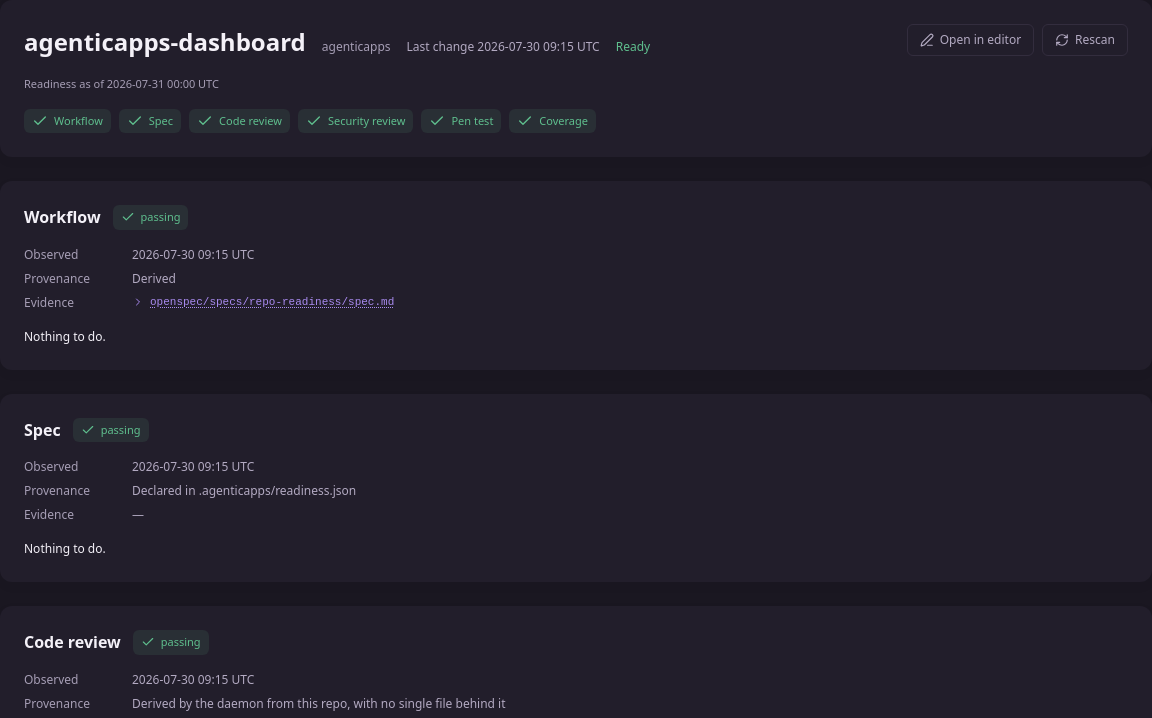
Test: RepoDetailPage evidence blocks › does not claim to know why a file would not open
Click the button "openspec/specs/repo-readiness/spec.md".
click(263, 302)  # box 132,294 -> 394,310
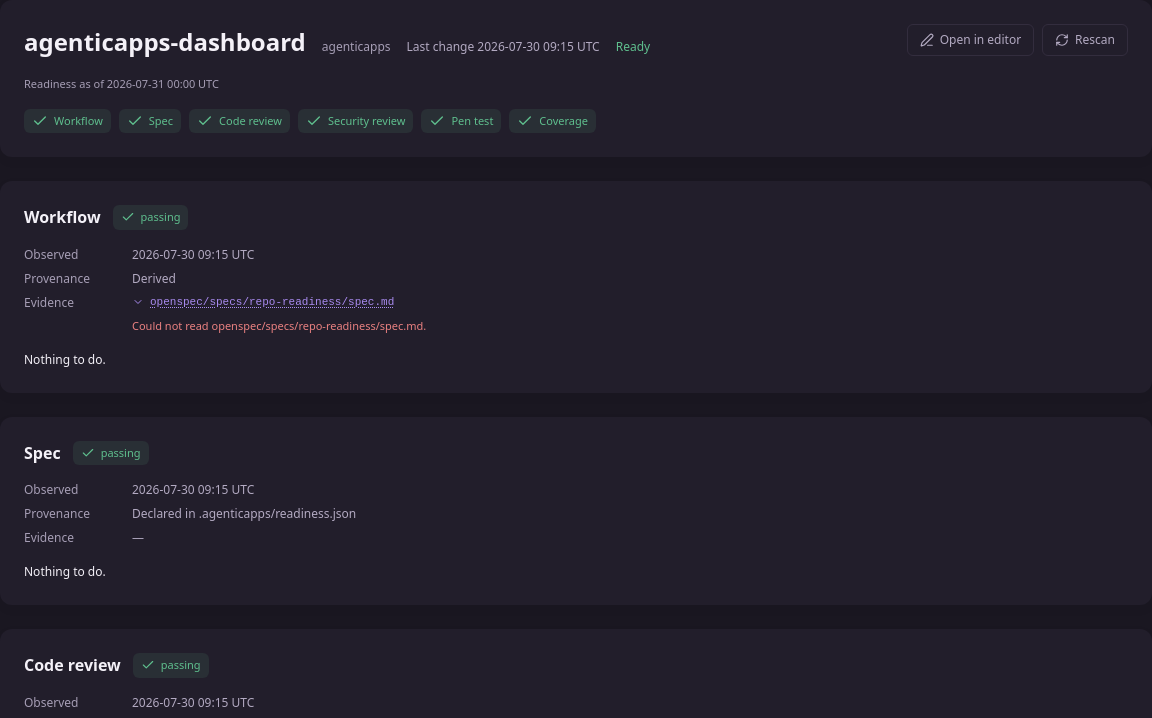
expect the text "Could not read openspec/specs/repo-readiness/spec.md." is shown: met, box 132,318 -> 426,334
